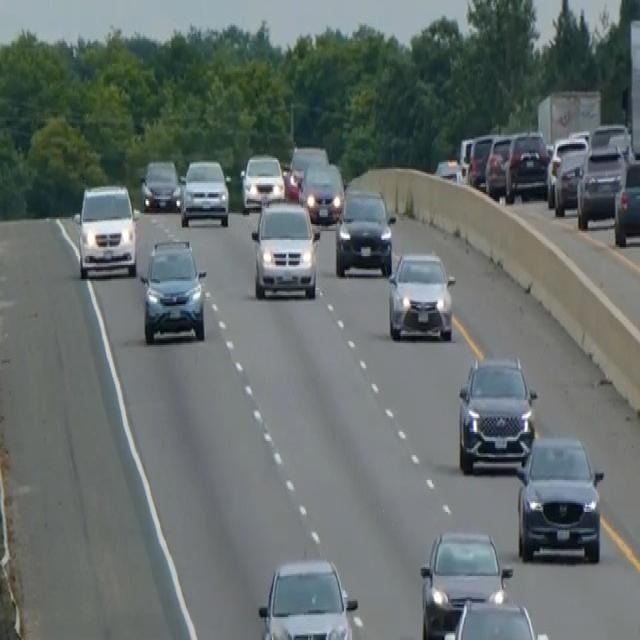car: (515, 432, 604, 564), (418, 526, 512, 638), (457, 352, 537, 475), (256, 555, 358, 638), (139, 235, 207, 345), (387, 247, 456, 341), (440, 583, 552, 638), (334, 185, 395, 277), (576, 142, 625, 228), (179, 156, 230, 228), (505, 130, 549, 202), (547, 135, 587, 213), (299, 160, 344, 226), (239, 151, 284, 212), (284, 142, 328, 198), (139, 156, 181, 214), (613, 155, 639, 247), (484, 132, 513, 199), (466, 132, 497, 186), (457, 134, 474, 182)
lorry: (621, 15, 639, 166)
minivan: (249, 196, 320, 300), (73, 179, 139, 281)
